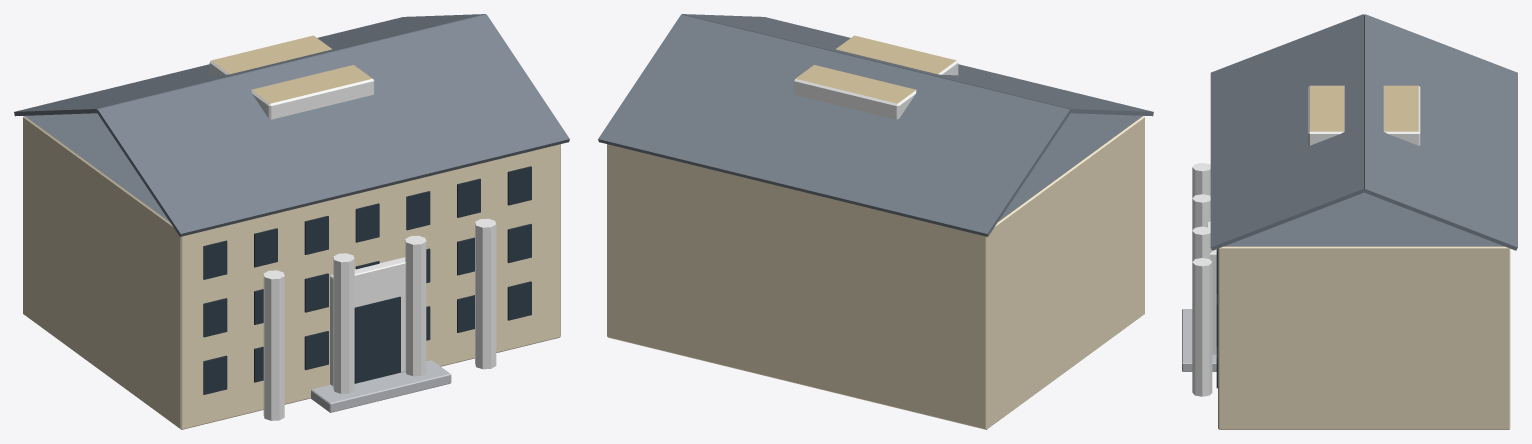
The model's file is hall_l.fbx.
The picture shows the model from 3 angles, left to right: view 1: azimuth 30°, elevation 25°; view 2: azimuth 150°, elevation 25°; view 3: azimuth 270°, elevation 25°; orthographic projection. The views are drawn at different scales.
Visible parts, largest first — view 1: hall_l; view 2: hall_l; view 3: hall_l.
Boxes of the visible parts, x1,y1,x2,y2 form: hall_l: (14,14,569,429); hall_l: (598,14,1153,429); hall_l: (1182,14,1517,429).
Bounding box in the file's own units: 18.4 × 11.95 × 14.93.
